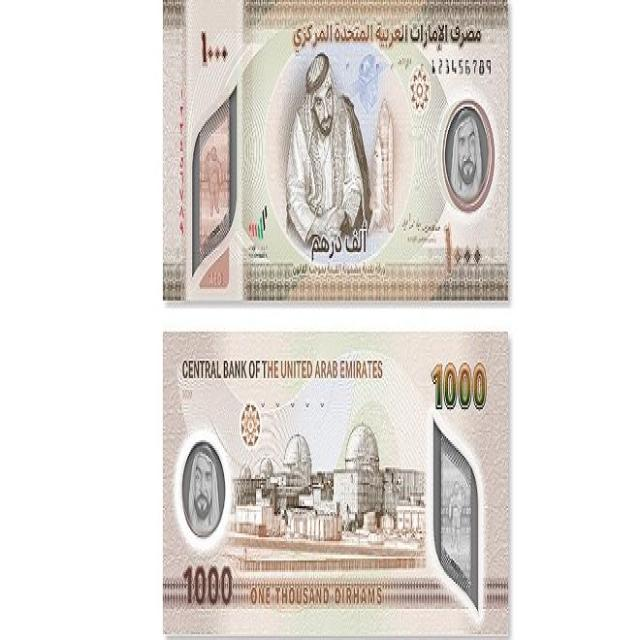1000_AED: (164, 330, 510, 634), (164, 2, 509, 298)
